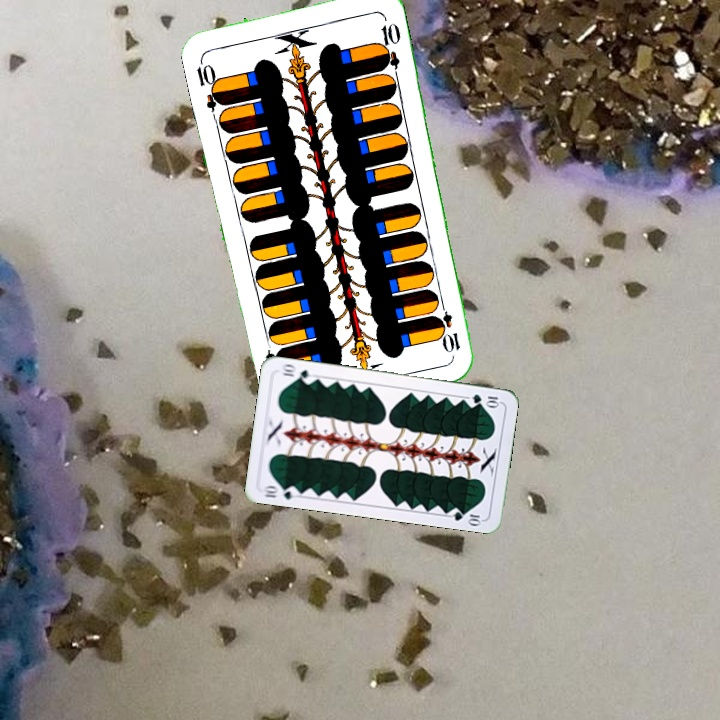E10: (192, 53, 226, 111), (432, 298, 463, 356)
G10: (259, 481, 300, 502), (468, 390, 503, 408)
